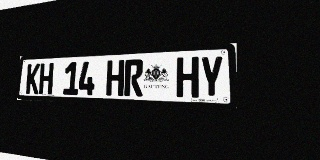1: (63, 62, 79, 95)
4: (78, 61, 95, 95)
H: (176, 57, 199, 98), (106, 60, 124, 96), (39, 63, 54, 94)
K: (26, 63, 40, 94)
R: (124, 59, 144, 96)
Y: (199, 56, 224, 98)
